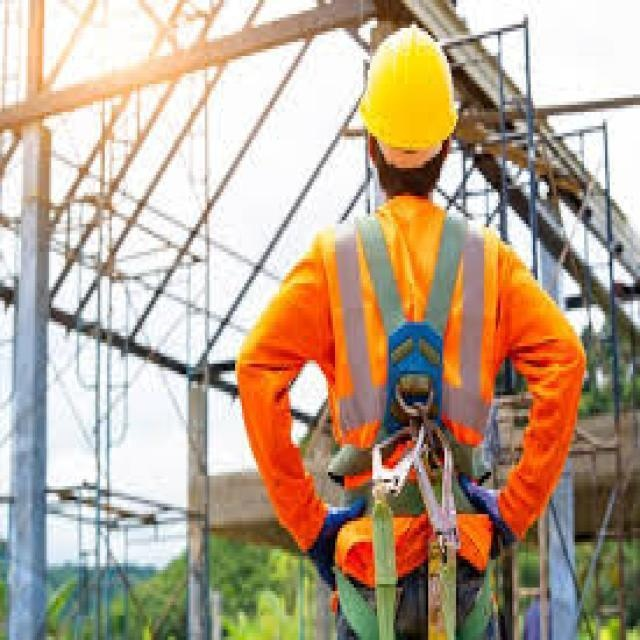Arnes_seguridad: (332, 199, 506, 639)
